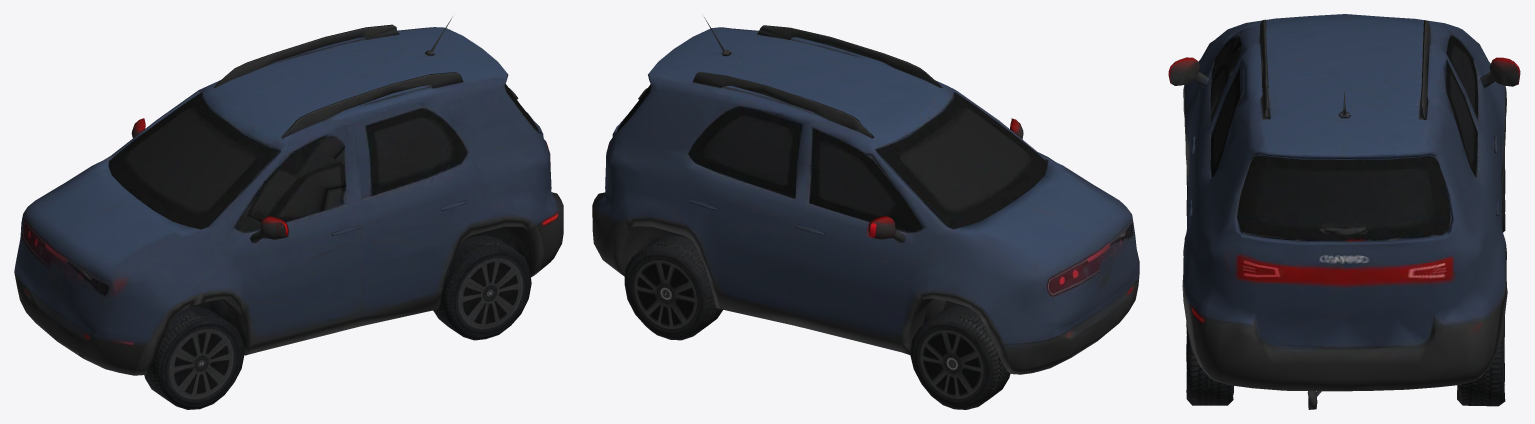
File: meshy-compact-suv.glb
3 views of the same model, side by side, from view 1: azimuth 30°, elevation 25°; view 2: azimuth 150°, elevation 25°; view 3: azimuth 270°, elevation 25° (orthographic). The views are drawn at different scales.
Size of the model in its own units: 1 by 0.5571 by 0.5377.
Materials: 1 (1 with a texture image).
